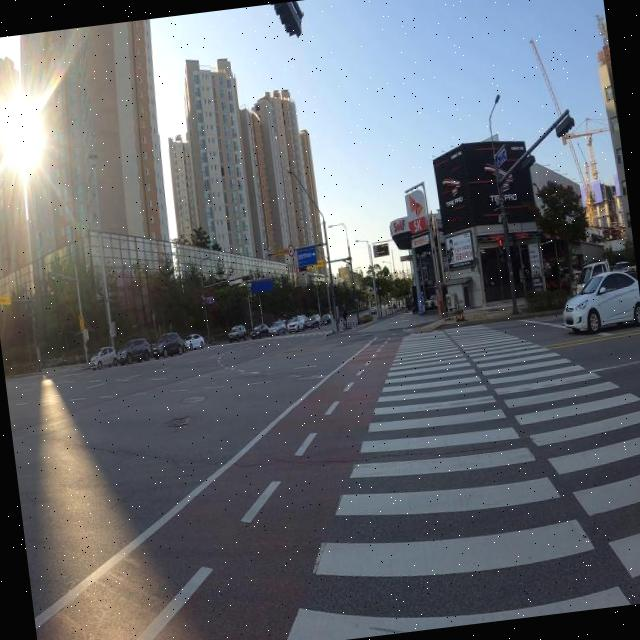crosswalk: (286, 321, 640, 640), (205, 329, 335, 348)
